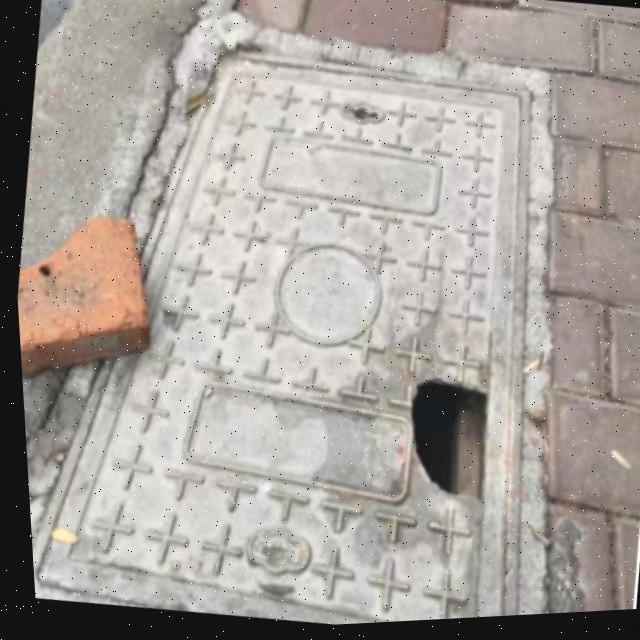manhole: (25, 0, 624, 639)
